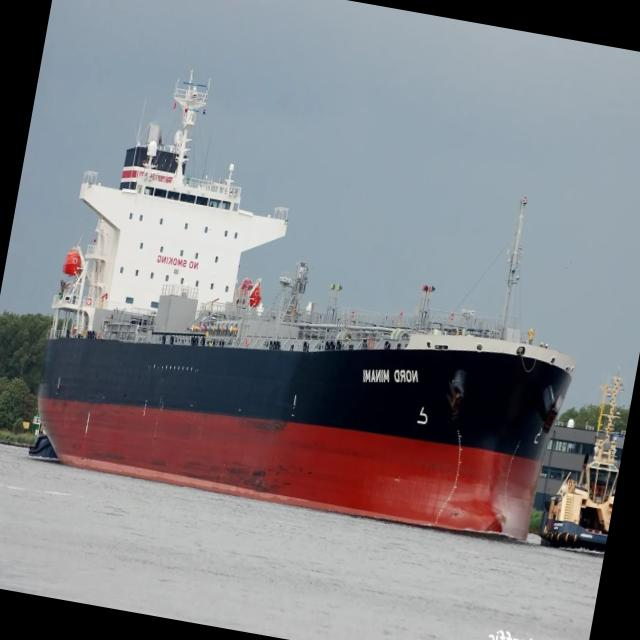Tanker: (38, 74, 575, 539)
Tug: (540, 375, 625, 550)
